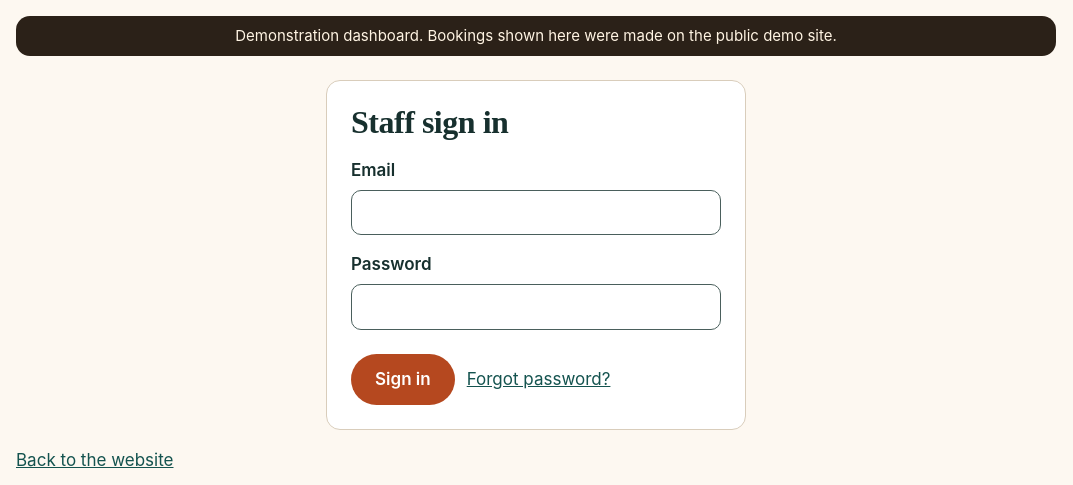
Test: StaffApp › offers a password reset link from staff sign-in
Step 1. Click the button "Forgot password?" → (539, 379), box [467,354,610,405]
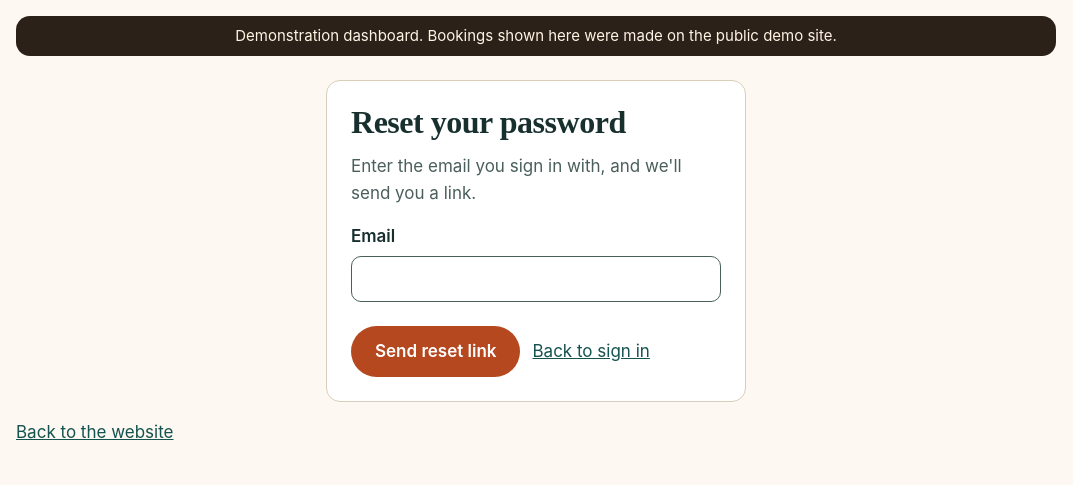
Step 2. Type "maya@pawcare.example" into the field labelled "Email" → (536, 279), box [351,256,721,302]
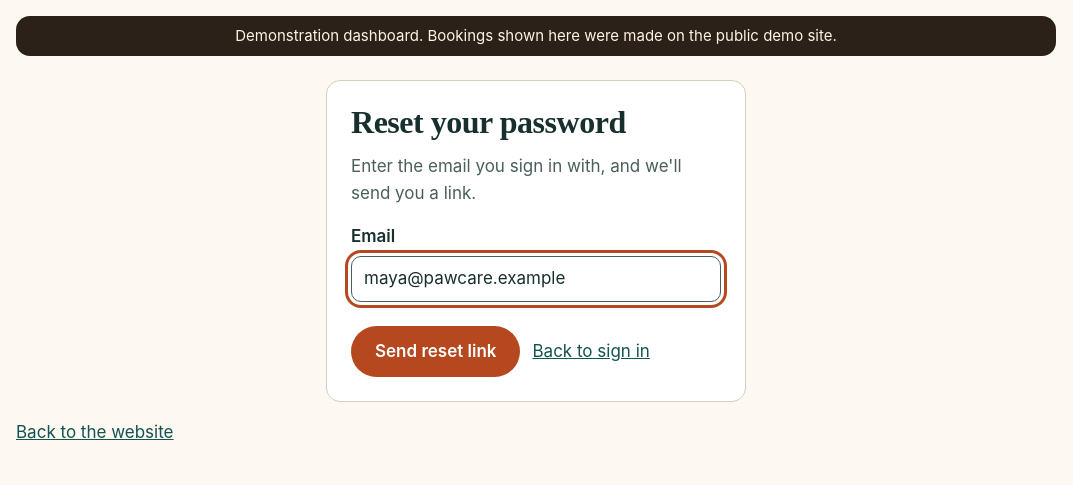
Step 3. Click the button "Send reset link" → (436, 351), box [351,326,520,377]
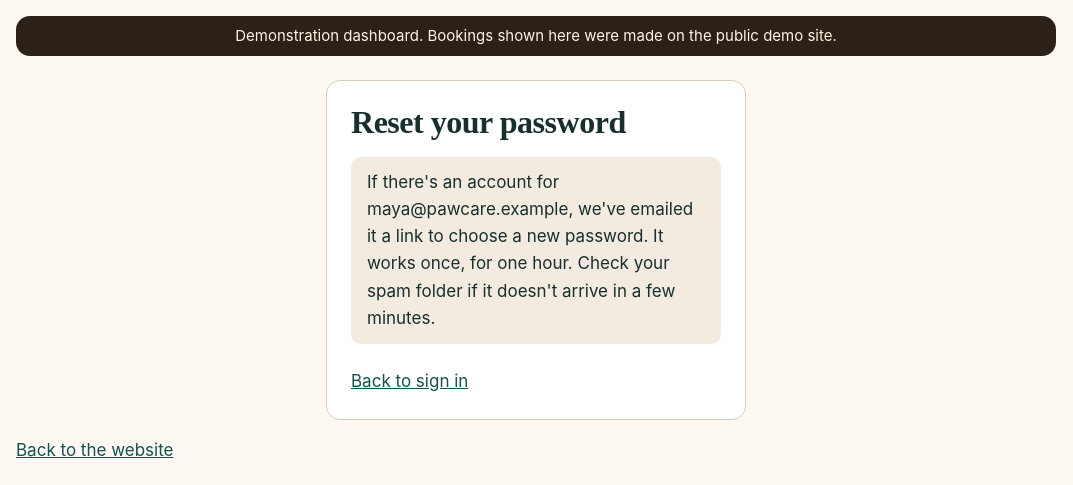
Result: the message shows "If there's an account for maya@pawcare.example" at [351,157,721,344]
